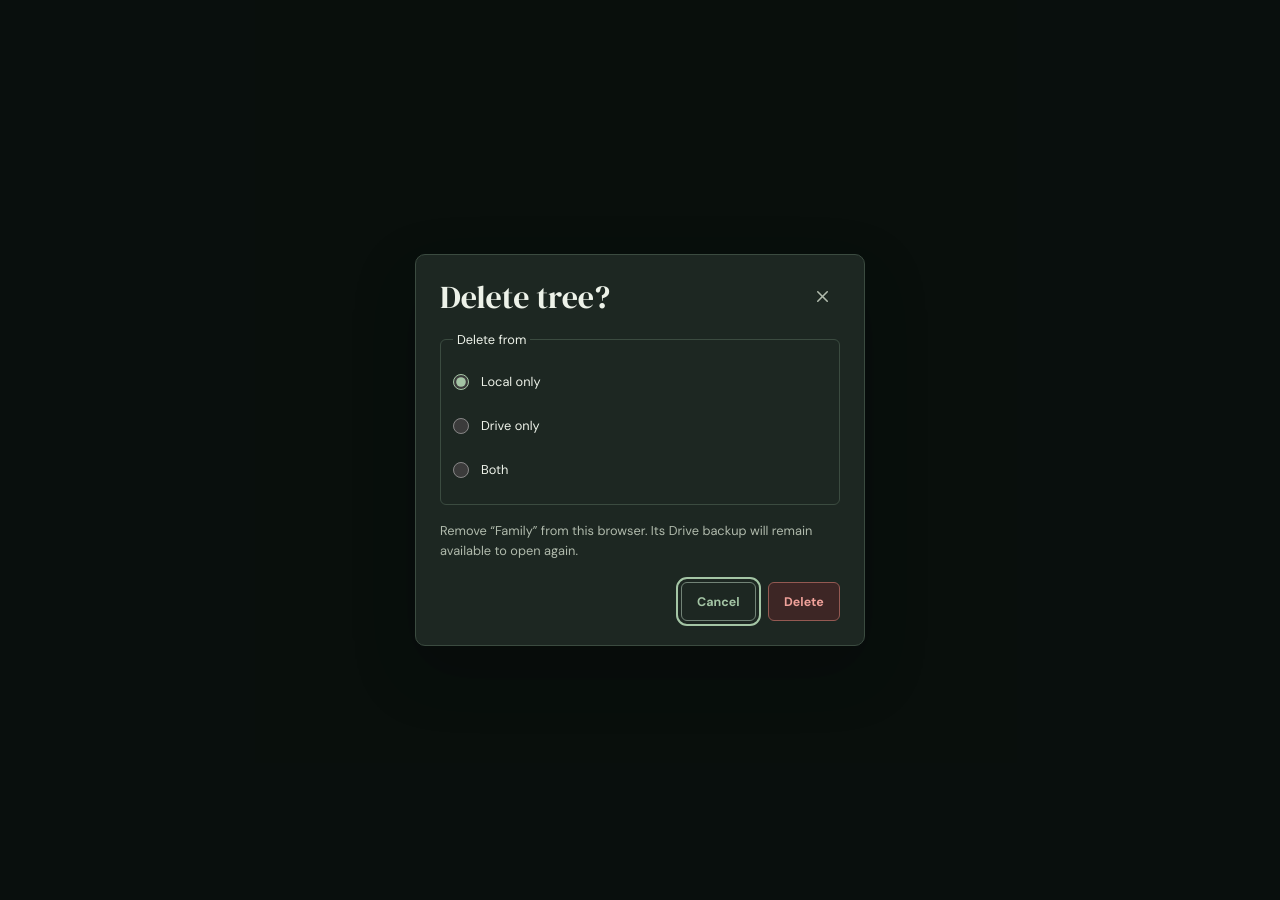
Test case: Workspace deletion confirmation › removes the folder warning when switching back to local-only deletion
Step 1. Click the radio button labelled "Drive only" → (461, 426), box [453,418,469,434]
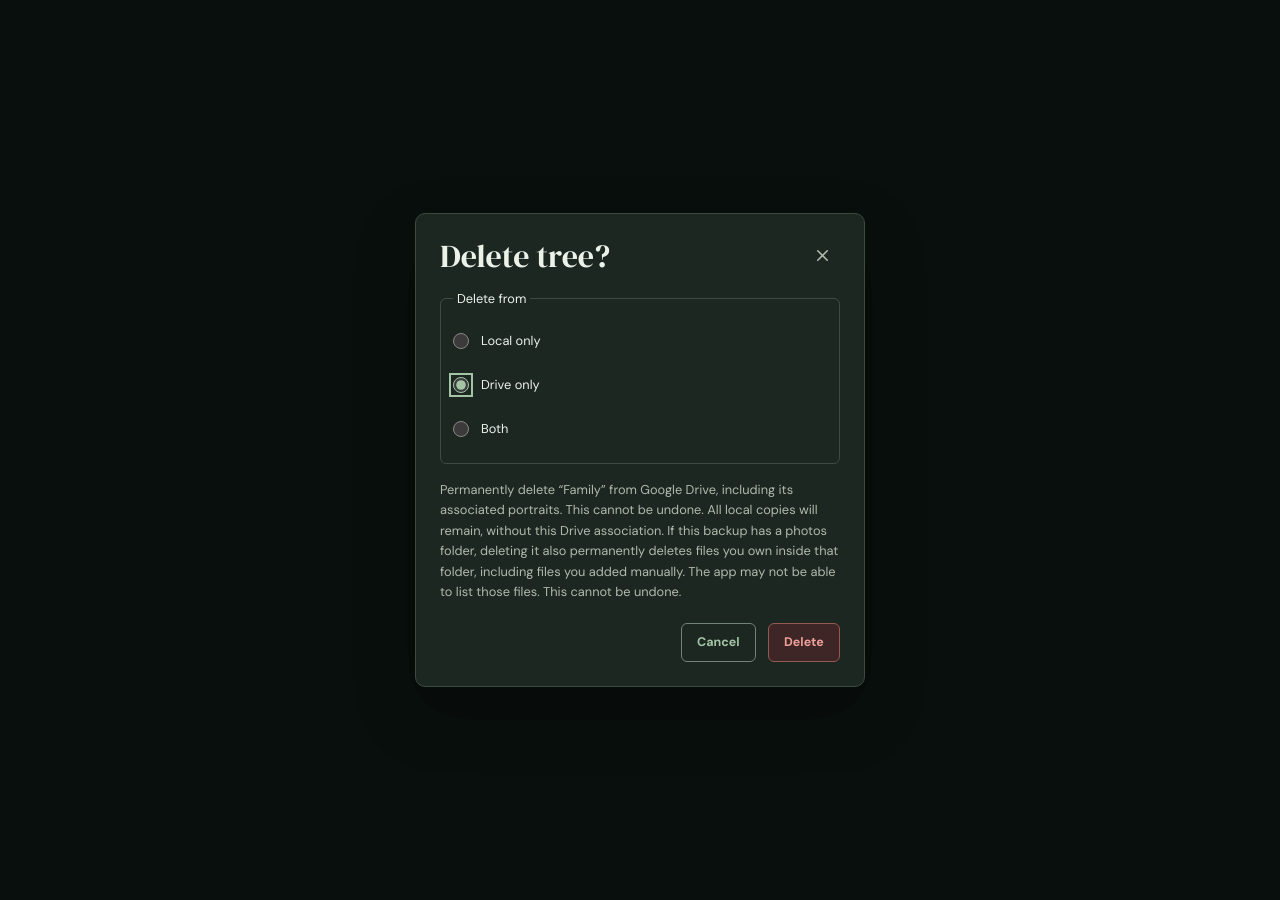
Check: the text "The app may not be able to list those files" is shown, box [440,481,838,600]
Step 2. Click the radio button labelled "Local only" → (461, 341), box [453,333,469,349]
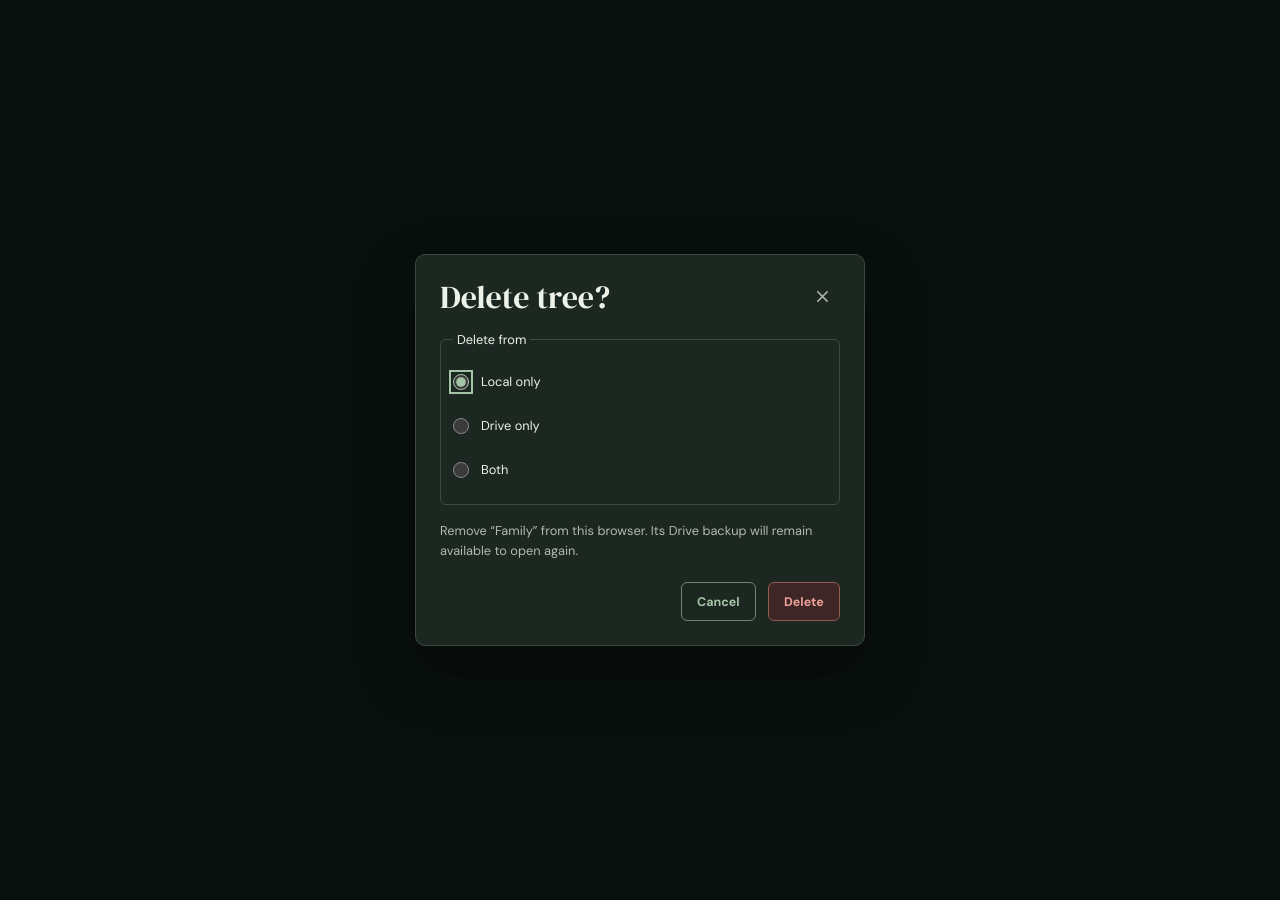
Check: the text "The app may not be able to list those files" is gone
Step 3. Click the radio button labelled "Both" → (461, 470), box [453,462,469,478]
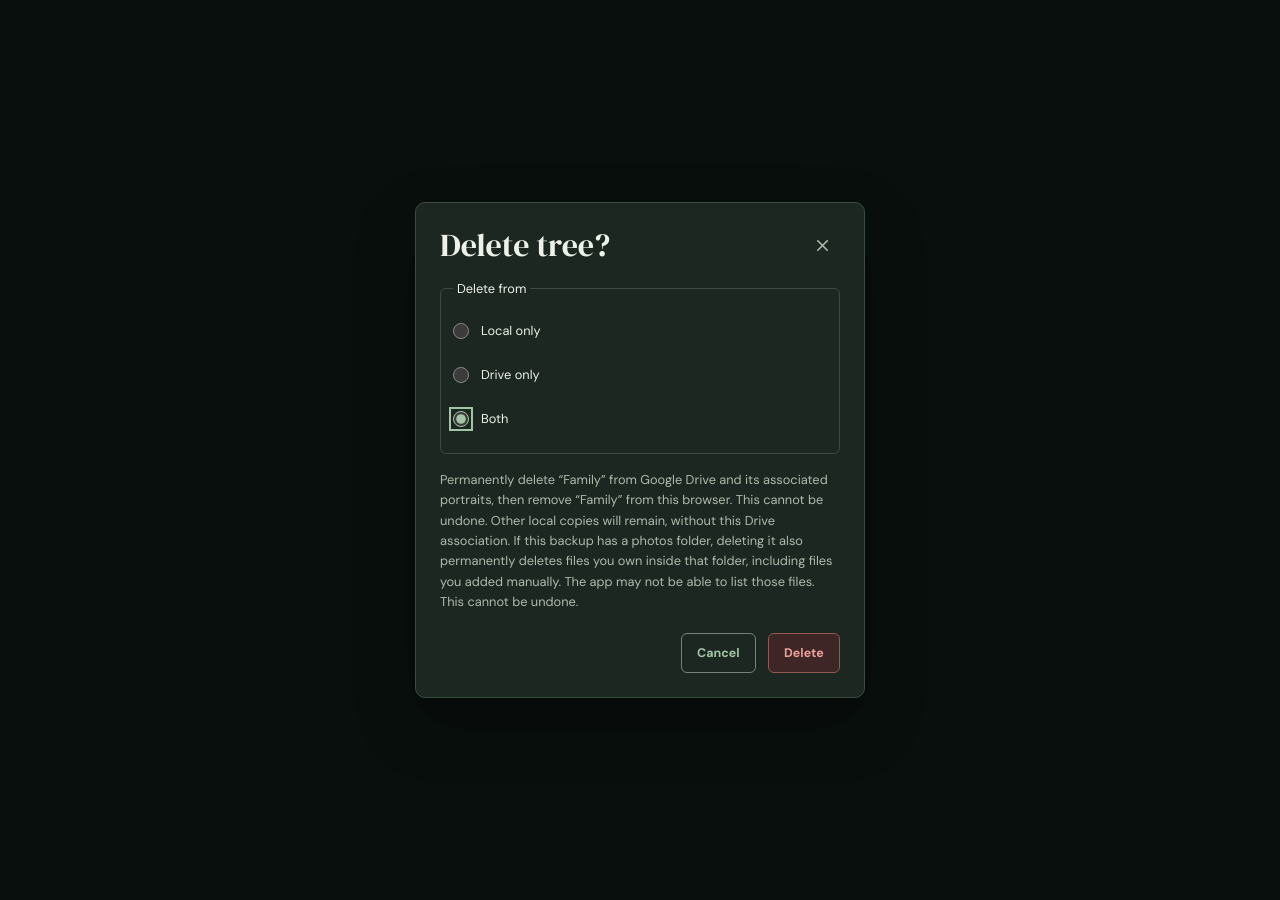
Check: the text "The app may not be able to list those files" is shown, box [440,471,832,610]
Step 4. Click the radio button labelled "Local only" → (461, 331), box [453,323,469,339]
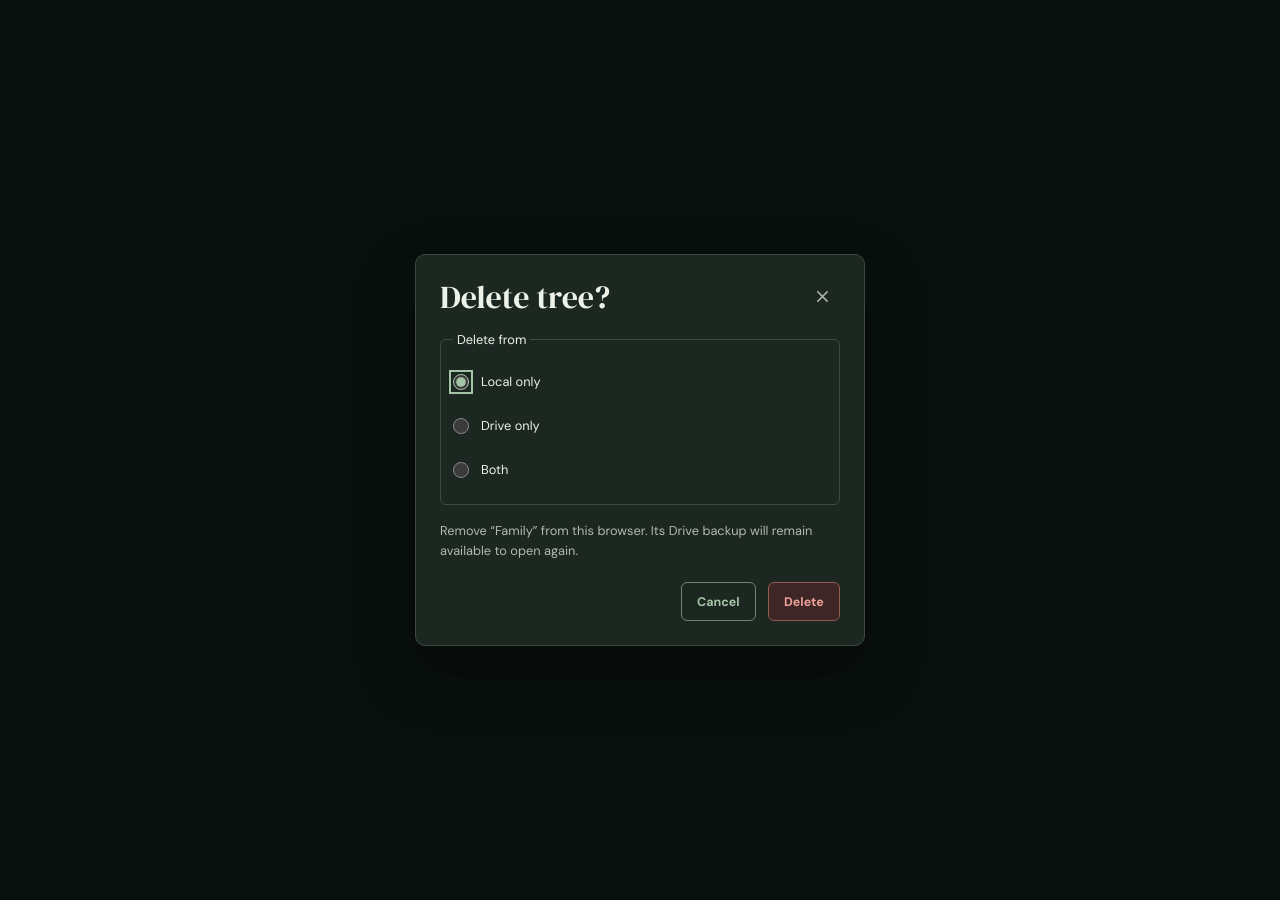
Check: the text "The app may not be able to list those files" is gone
